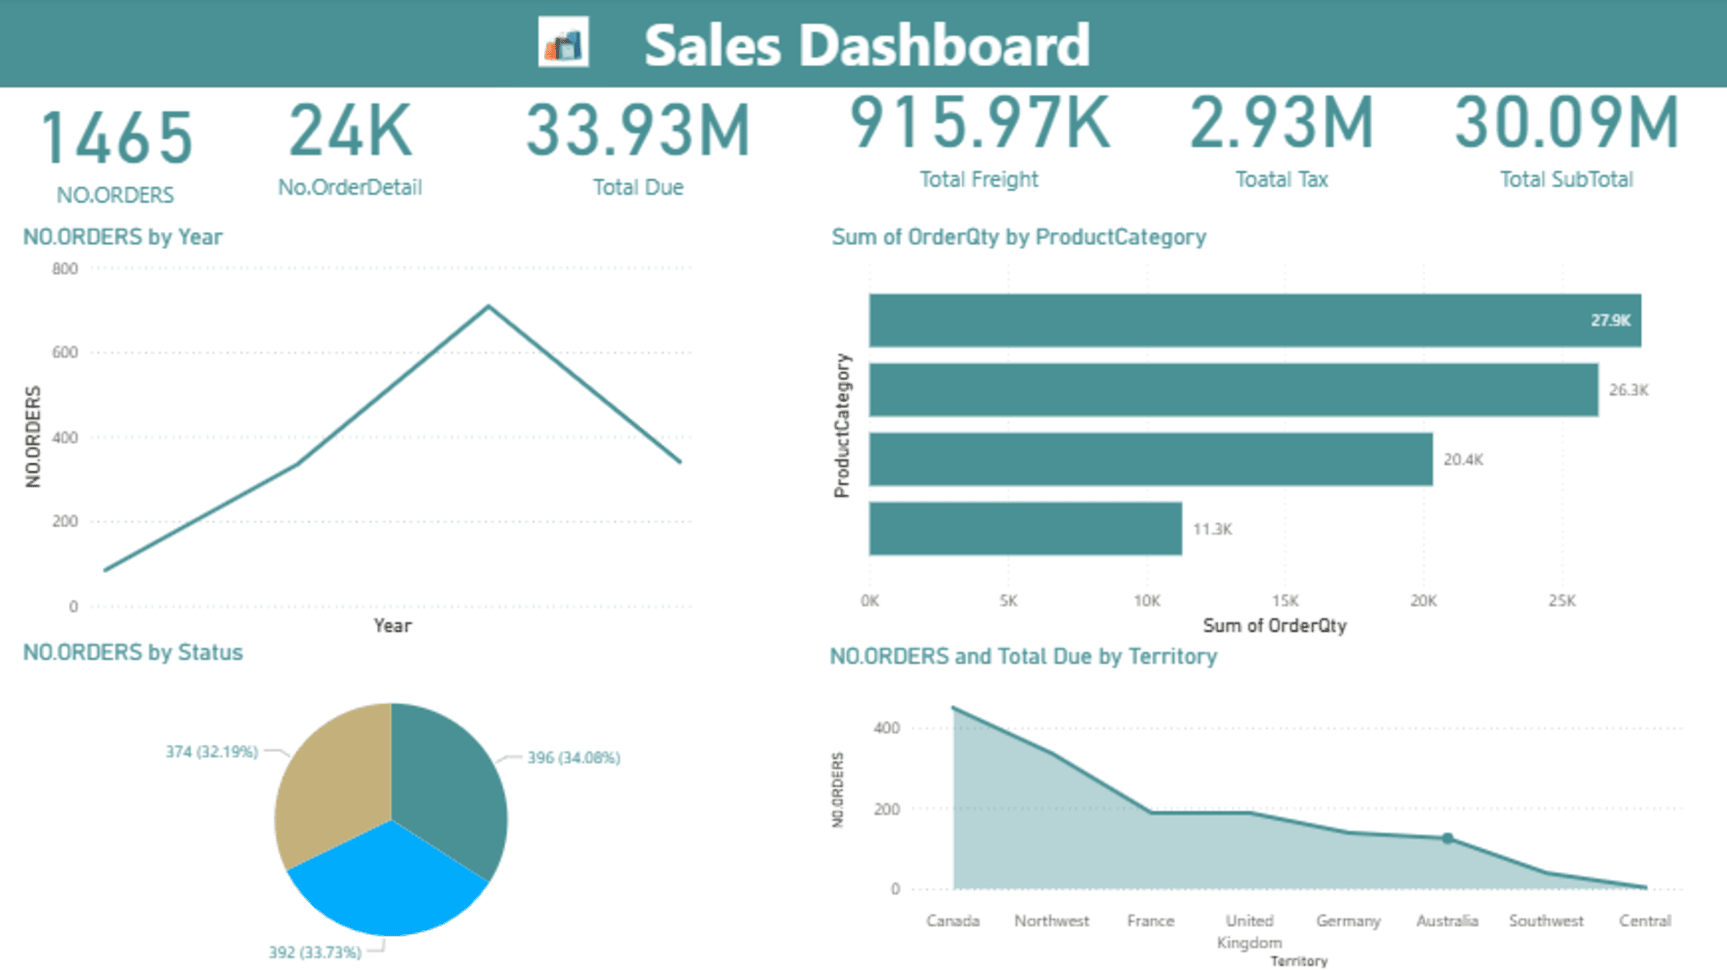

The page's visual inventory and layout, read from the dashboard file:
{"tool":"powerbi","page":{"name":"Page 1","canvas":[1280,720],"ordinal":0},"visuals":[{"type":"card","fields":{"Values":["Measures (3).NO.ORDERS"]},"box":[0,50.4,173,115.9],"z":0},{"type":"card","fields":{"Values":["Measures (3).Total Freight"]},"box":[599.7,38.6,245.2,115.9],"z":1000},{"type":"card","fields":{"Values":["Measures (3).Toatal Tax"]},"box":[860.1,38.6,169.7,115.9],"z":2000},{"type":"card","fields":{"Values":["Measures (3).No.OrderDetail"]},"box":[173,50.4,173,104.1],"z":3000},{"type":"card","fields":{"Values":["Measures (3).Total Due"]},"box":[378,50.4,188.1,104.1],"z":4000},{"type":"card","fields":{"Values":["Measures (3).Total SubTotal"]},"box":[1058.3,38.6,194.9,115.9],"z":5000},{"type":"lineChart","fields":{"Y":["Measures (3).NO.ORDERS"],"Category":["Dim Order Date.Date.Variation.Date Hierarchy.Year","Dim Order Date.Date.Variation.Date Hierarchy.Quarter","Dim Order Date.Date.Variation.Date Hierarchy.Month","Dim Order Date.Date.Variation.Date Hierarchy.Day"]},"box":[13.4,166.3,503.9,309.1],"z":6000},{"type":"pieChart","fields":{"Y":["Measures (3).NO.ORDERS"],"Category":["Dim Status.Status"]},"box":[13.4,472,552.7,248.6],"z":7000},{"type":"clusteredBarChart","fields":{"Category":["Dim Product.Product Hierarchy.ProductCategory","Dim Product.Product Hierarchy.ProductSubCategory","Dim Product.Product Hierarchy.Product"],"Y":["Sum(Dim Order Details.OrderQty)"]},"box":[608.1,166.3,645,309.1],"z":8000},{"type":"stackedAreaChart","fields":{"Y":["Measures (3).NO.ORDERS"],"Category":["Dim Territory.Territory"]},"box":[608,475,645,245],"z":9000},{"type":"shape","box":[0,0,1280.5,67.3],"z":10000},{"type":"textbox","box":[365.9,0,550.2,67.3],"z":11000},{"type":"image","box":[360,0,112.7,67.3],"z":12000}]}

Visuals, with their boxes in screenshot pixels (x1, y1, x2, y2), scaled from the page's 1280x720 canvas onto the 1727x970 screenshot:
card - Measures (3).NO.ORDERS: 0/68/233/224
card - Measures (3).Total Freight: 809/52/1140/208
card - Measures (3).Toatal Tax: 1160/52/1389/208
card - Measures (3).No.OrderDetail: 233/68/467/208
card - Measures (3).Total Due: 510/68/764/208
card - Measures (3).Total SubTotal: 1428/52/1691/208
lineChart - Measures (3).NO.ORDERS x Dim Order Date.Date.Variation.Date Hierarchy.Year: 18/224/698/640
pieChart - Measures (3).NO.ORDERS x Dim Status.Status: 18/636/764/969
clusteredBarChart - Dim Product.Product Hierarchy.ProductCategory x Dim Product.Product Hierarchy.ProductSubCategory: 820/224/1691/640
stackedAreaChart - Measures (3).NO.ORDERS x Dim Territory.Territory: 820/640/1691/969
shape: 0/0/1726/91
textbox: 494/0/1236/91
image: 486/0/638/91
